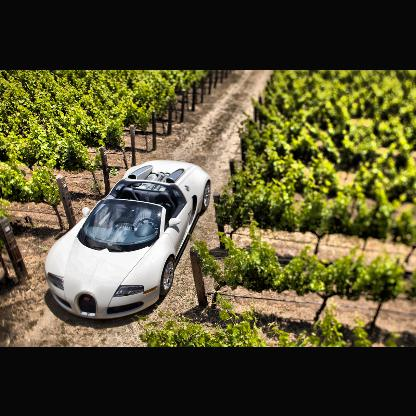Bugatti Veyron 16-4 Convertible 2009: (45, 158, 213, 320)
